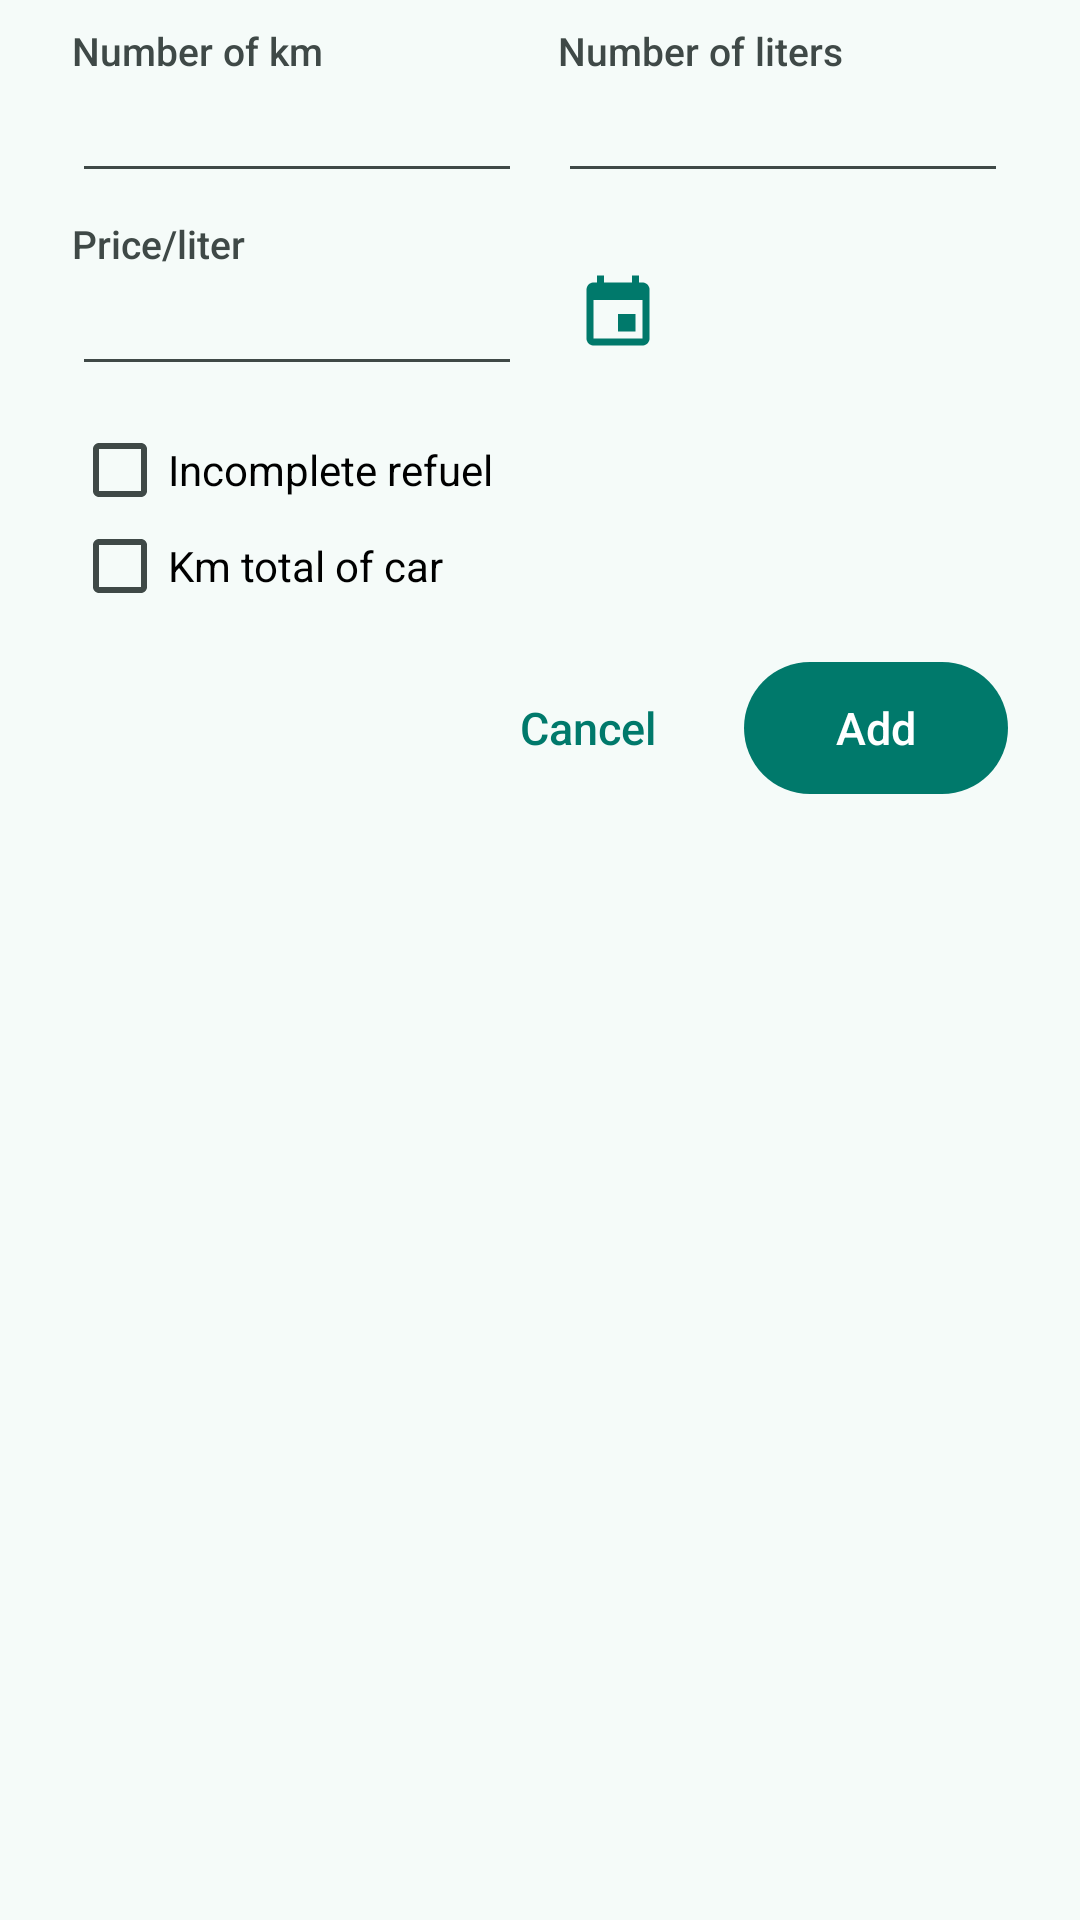

Locate icon controls on the screen. Image size 1080x1920, boxes as (x1, y1, x2, y2).
Date: (586, 275, 650, 346)
